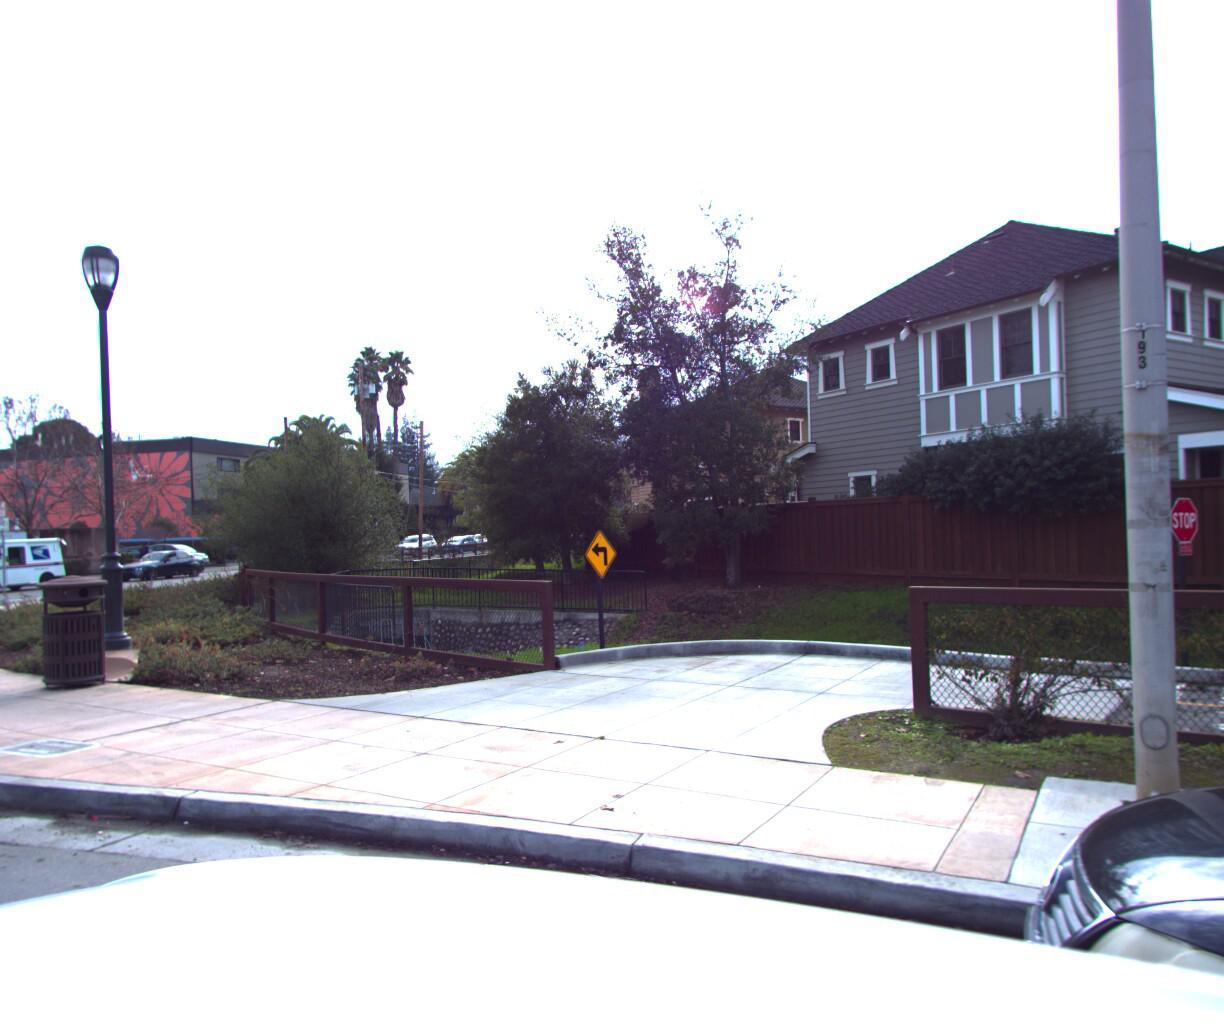car: (106, 541, 209, 575), (388, 526, 440, 551)
other_vehicle: (0, 530, 75, 589)
